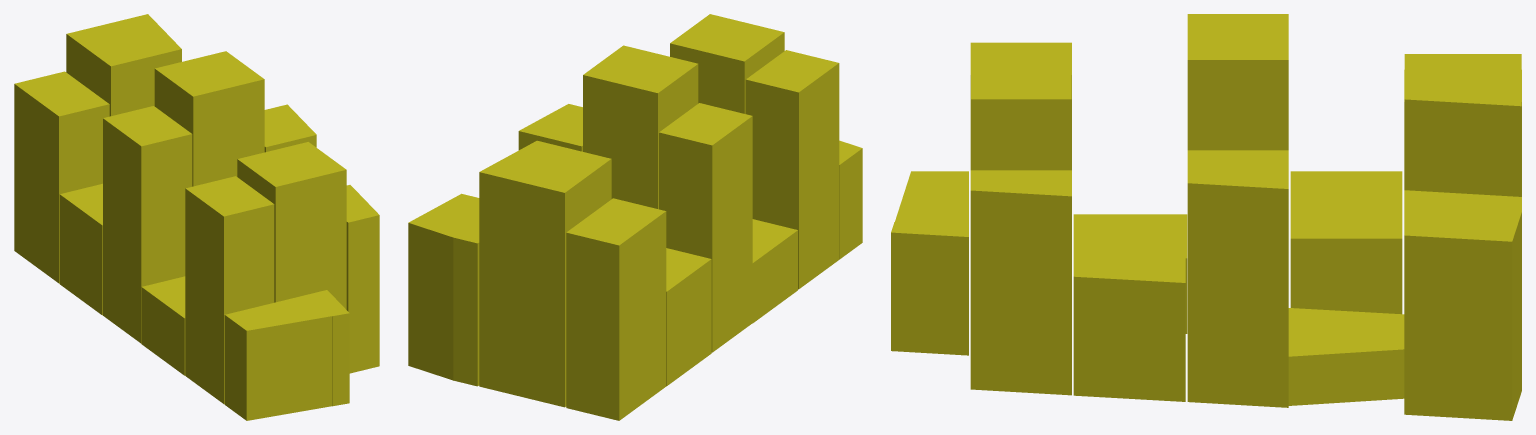
The model's file is PAM_16028-Technopolis-North-AC20.obj.fbx.
3 views of the same model, side by side, from view 1: azimuth 30°, elevation 25°; view 2: azimuth 150°, elevation 25°; view 3: azimuth 270°, elevation 25° (orthographic). The views are drawn at different scales.
Parts seen in each view (by area): view 1: BuildingMasses; view 2: BuildingMasses; view 3: BuildingMasses.
Part boxes in pixels (x1,y1,x2,y2): BuildingMasses: [14, 14, 379, 420]; BuildingMasses: [408, 14, 862, 420]; BuildingMasses: [891, 14, 1521, 420].
Bounding box in the file's own units: 51.06 × 56.01 × 104.
